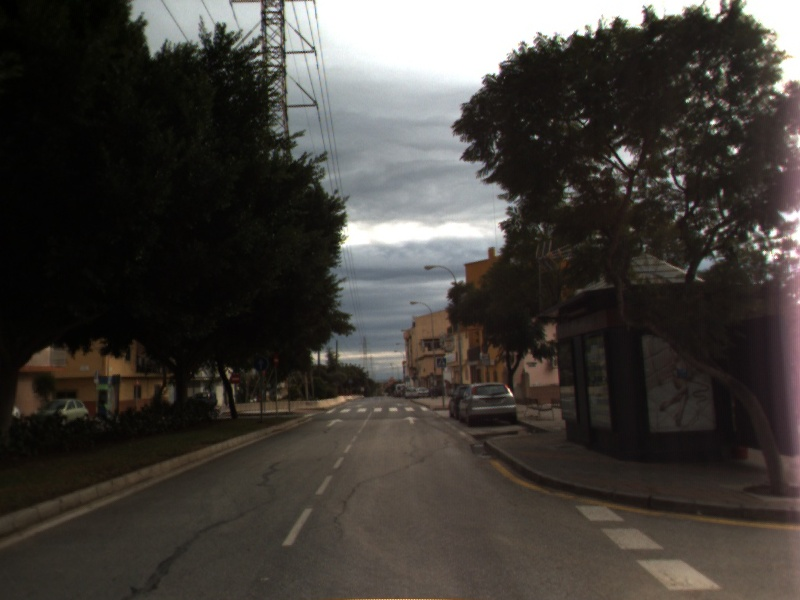STRAIGHT: (324, 416, 346, 429), (400, 414, 422, 426)
